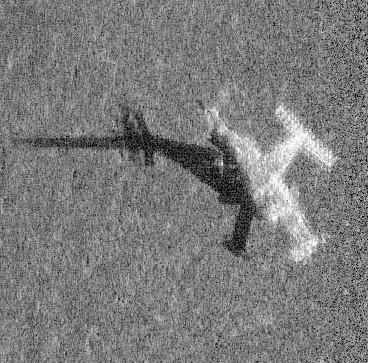plane: (204, 100, 334, 262)
